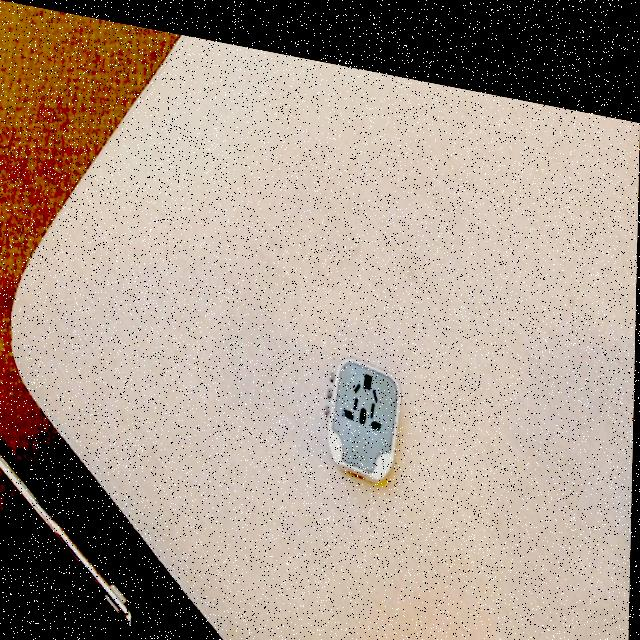adapter: (324, 337, 403, 470)
